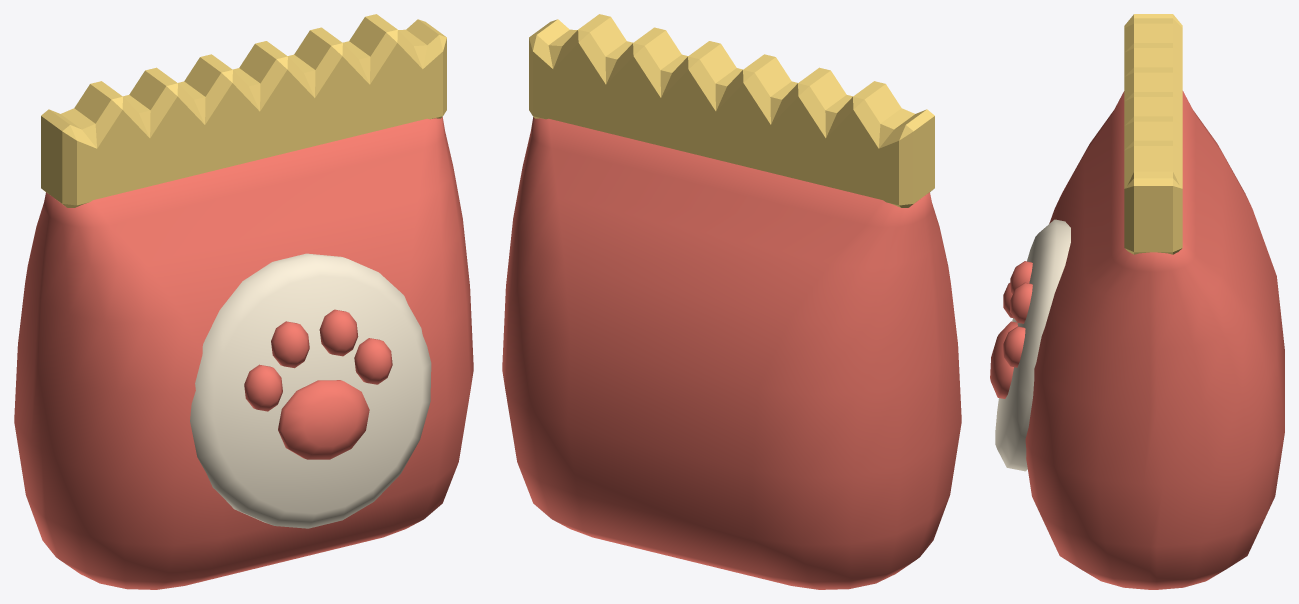
The model's file is ShopSnack.fbx.
3 views of the same model, side by side, from view 1: azimuth 30°, elevation 25°; view 2: azimuth 150°, elevation 25°; view 3: azimuth 270°, elevation 25° (orthographic). The views are drawn at different scales.
Visible parts, largest first — view 1: ShopSnack; view 2: ShopSnack; view 3: ShopSnack.
Boxes of the visible parts, box(x1,y1,x2,y2) form: ShopSnack: box(14, 14, 473, 589); ShopSnack: box(502, 14, 961, 589); ShopSnack: box(990, 14, 1284, 589).
Bounding box in the file's own units: 0.27 × 0.2953 × 0.1819.
